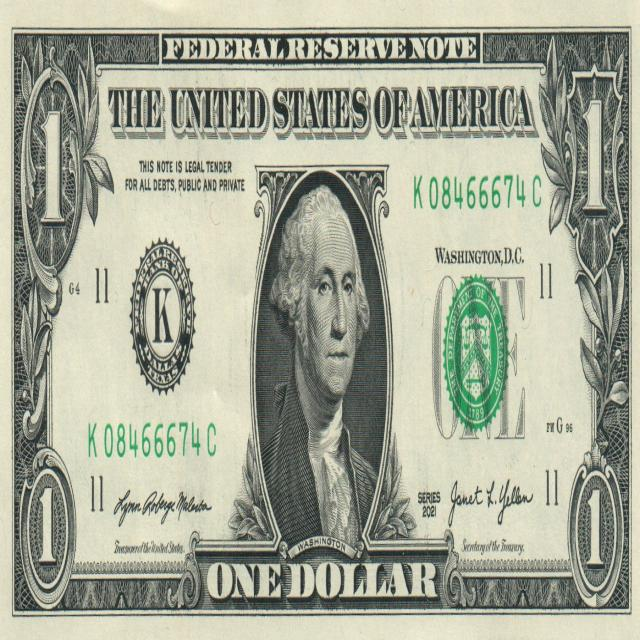SerialNumber: (89, 422, 215, 457), (414, 175, 541, 209)
